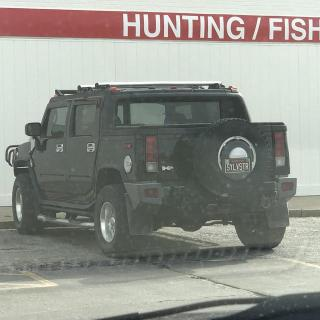license: (225, 158, 252, 175)
